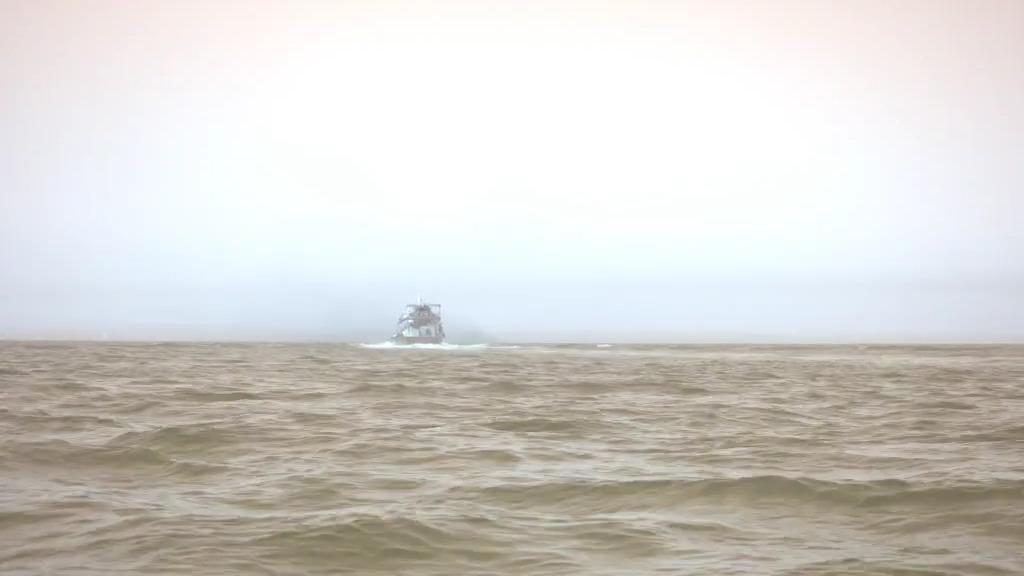PassengerShip: (385, 289, 451, 351)
